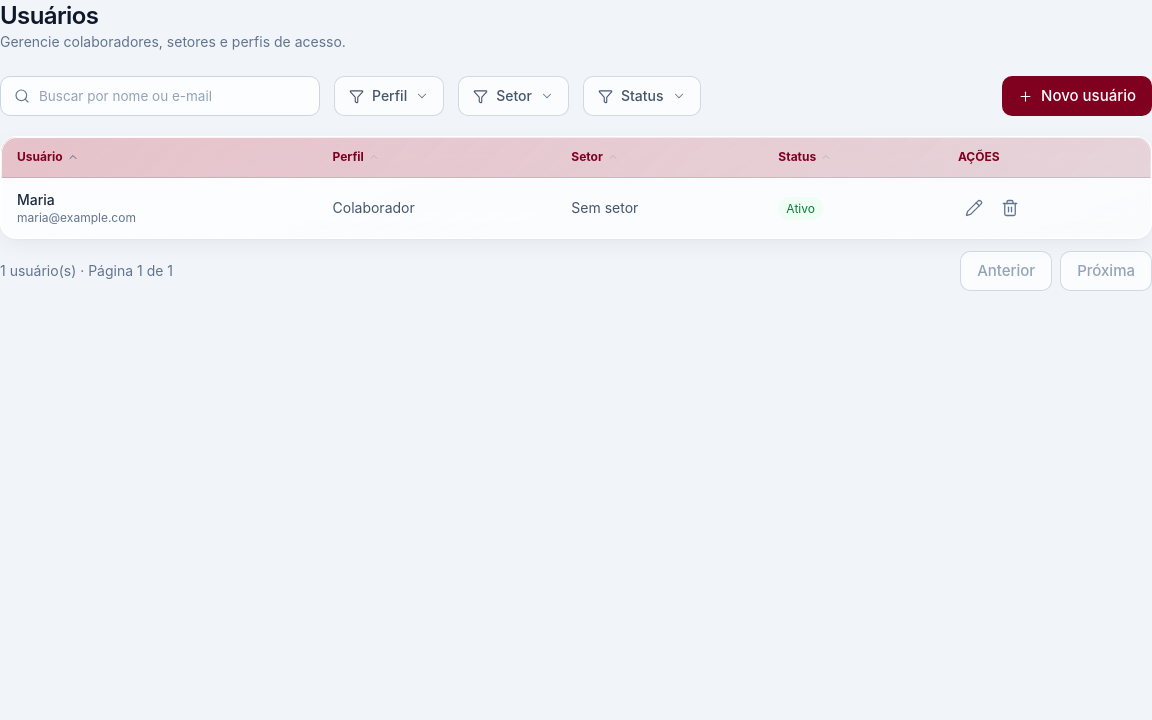
Test: USU-01 a USU-04 — gestão exclusiva de superadmin › USU-02: cadastra sem senha e avisa que o convite foi enviado
Expected: the text "Maria" is shown, [17, 191, 55, 208]
Click the button "Novo usuário".
click(1077, 96)  # box [1002, 76, 1151, 116]
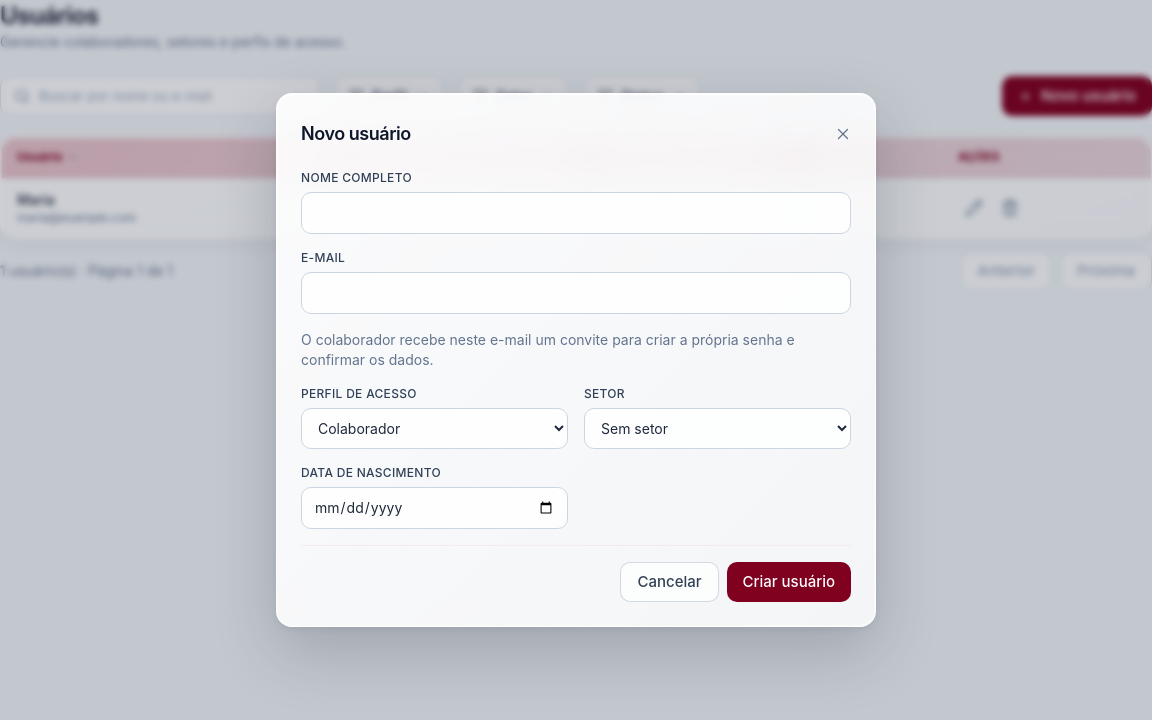
Type "Maria" into the field labelled "Nome completo".
click(576, 213); type("Maria")  # box [301, 192, 851, 234]
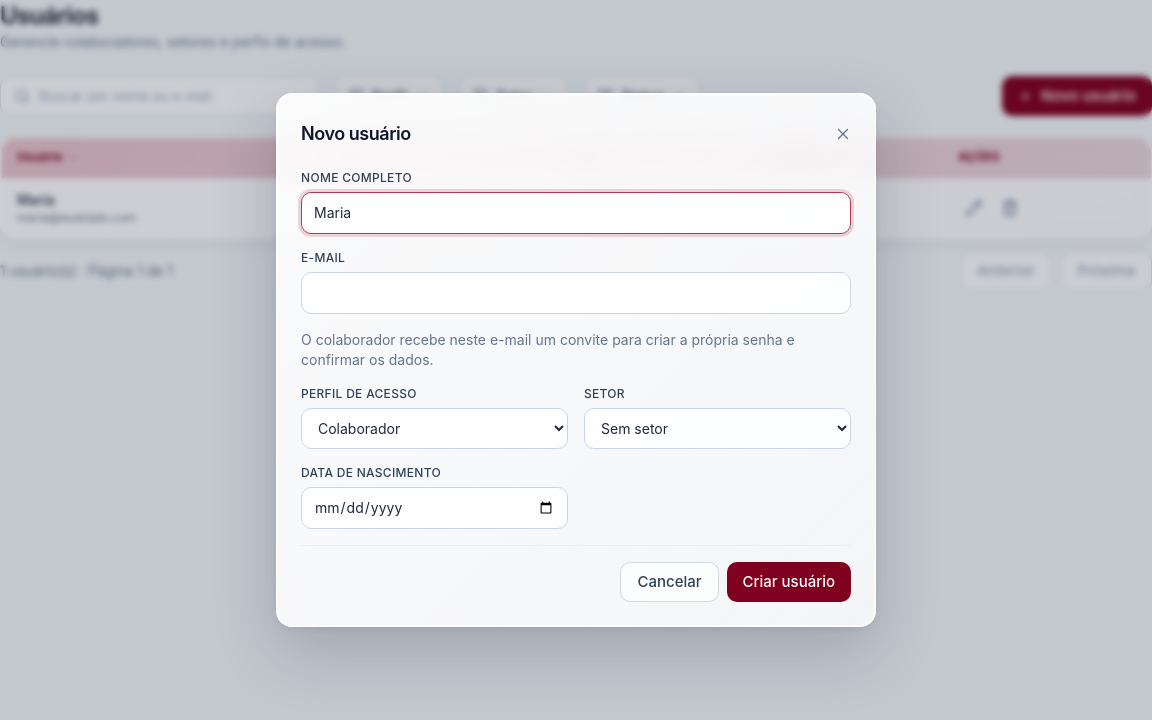
Type "maria@example.com" into the field labelled "E-mail".
click(576, 293); type("maria@example.com")  # box [301, 272, 851, 314]
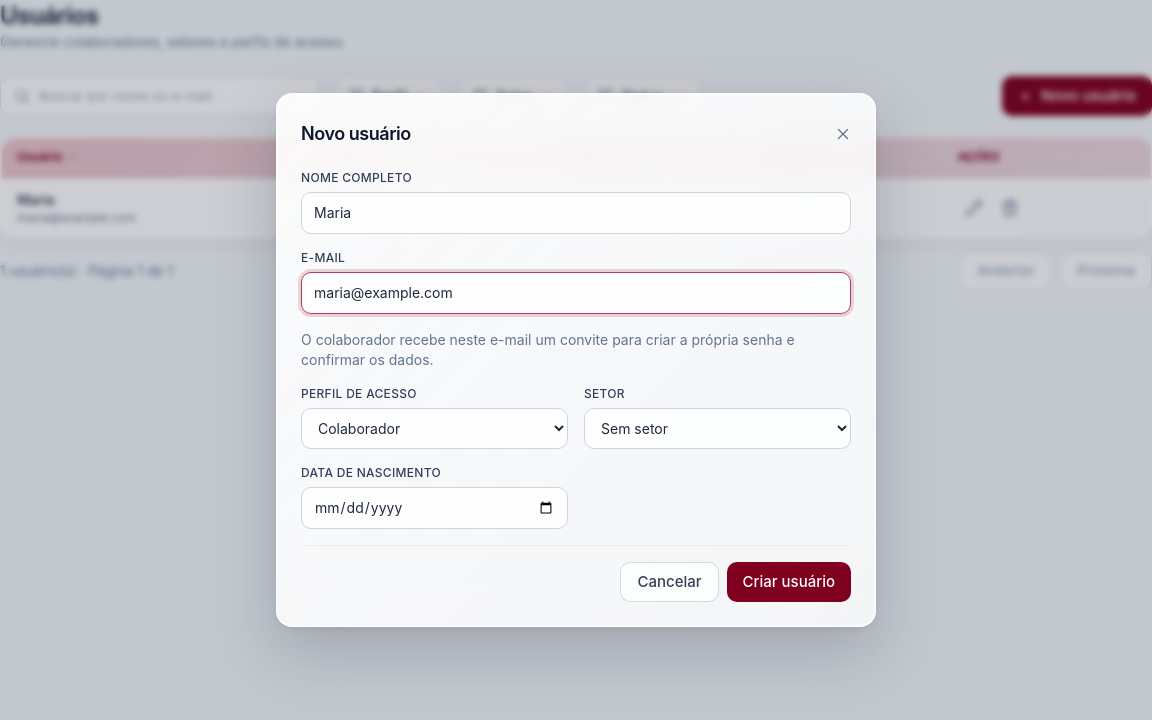
Click the button "Criar usuário".
click(789, 582)  # box [727, 562, 851, 602]
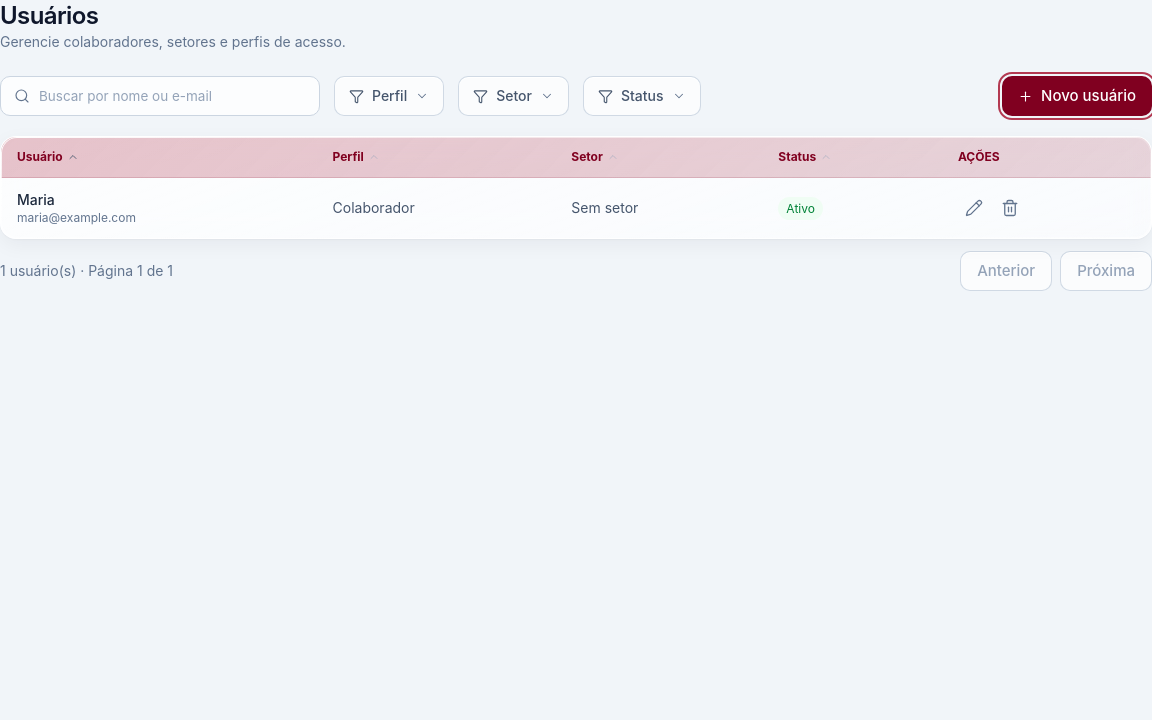
Expected: the dialog is gone
